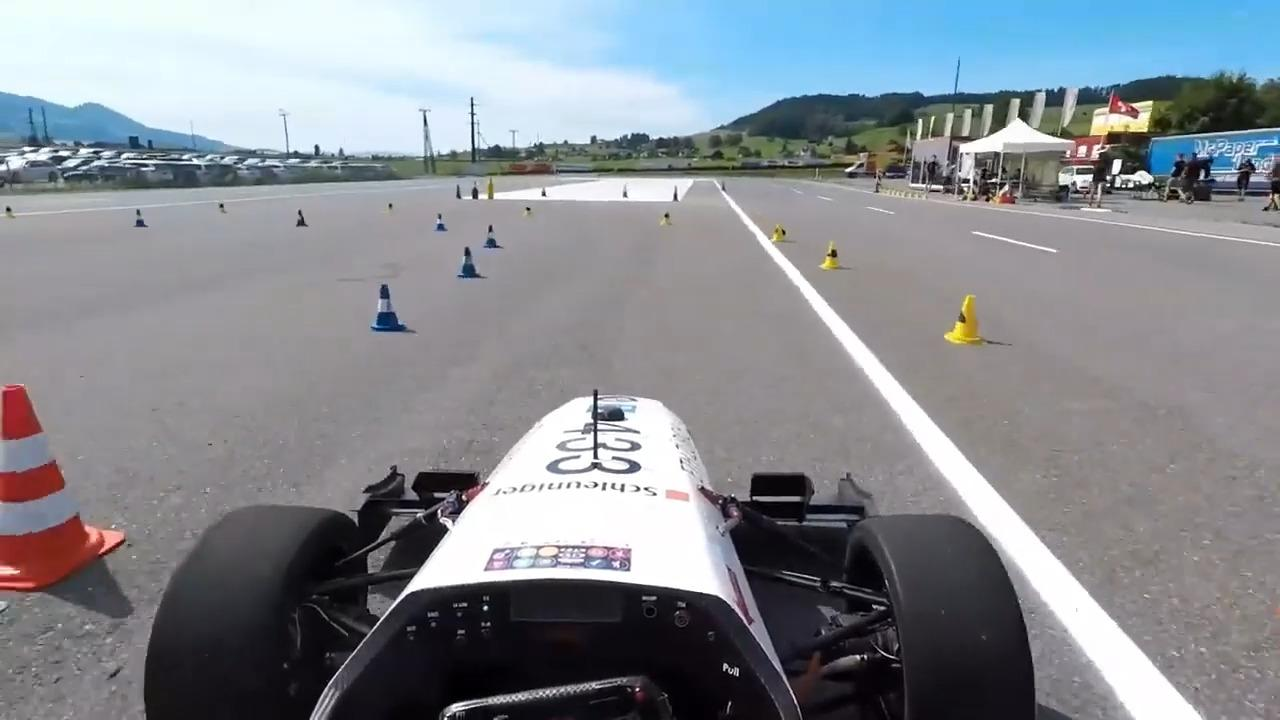blue_cone: (367, 281, 401, 332), (455, 243, 478, 279), (429, 210, 448, 235), (483, 222, 498, 248), (292, 210, 308, 228), (132, 207, 146, 227)
large_orange_cone: (0, 373, 109, 591)
yellow_cone: (946, 292, 980, 343), (821, 241, 840, 270), (770, 220, 788, 244), (661, 208, 674, 227), (5, 202, 16, 219), (524, 205, 534, 221), (385, 201, 395, 215), (217, 201, 227, 214)
